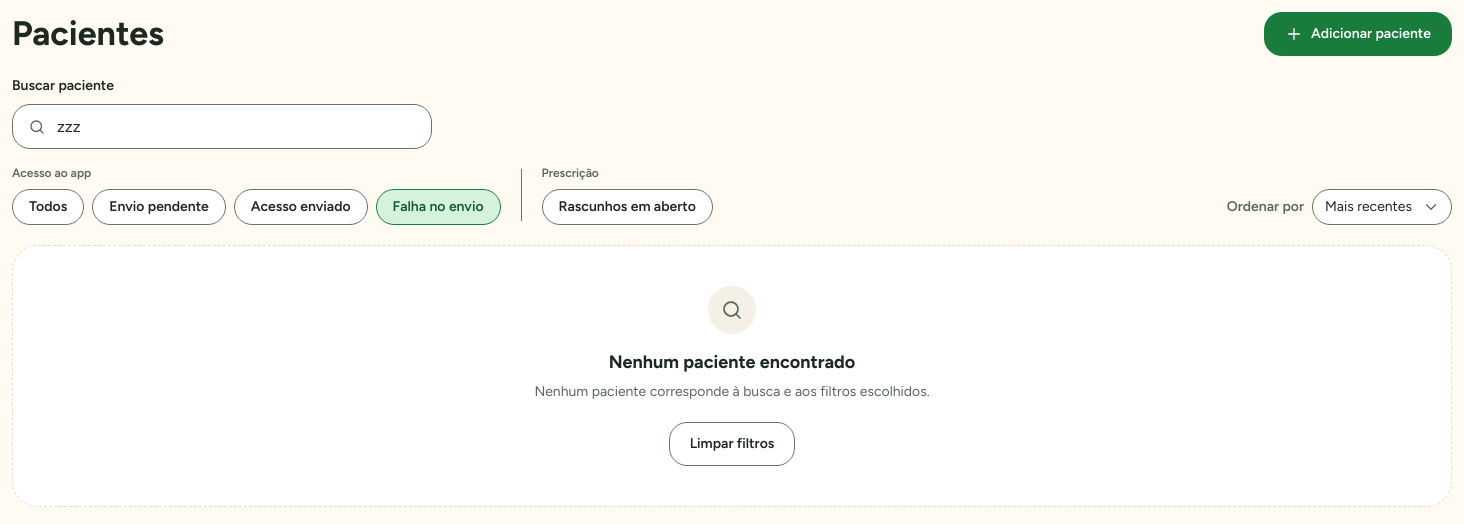
Test: Pacientes › mostra o vazio com filtro e limpa busca e filtros
The width and height of the screenshot is (1464, 524).
Expected: the text "Nenhum paciente encontrado" is shown, top-left (609, 350), bottom-right (855, 374)
Step 1. Click the button "Limpar filtros" → (732, 444), box top-left (669, 422), bottom-right (795, 466)
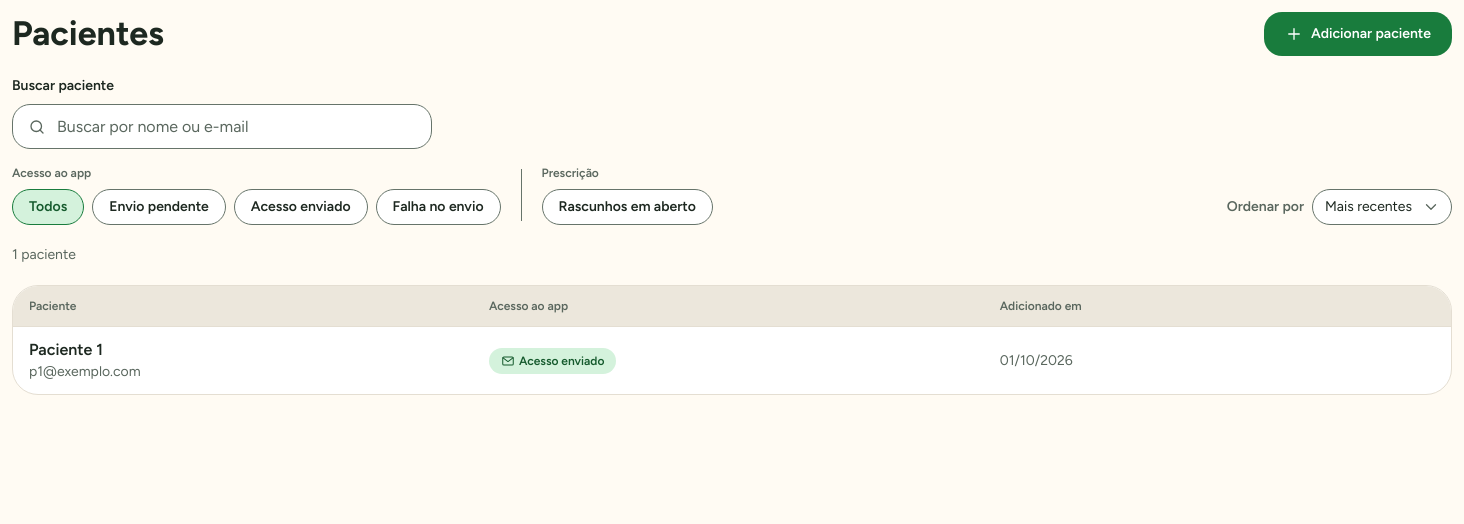
Now the table is shown, box top-left (13, 286), bottom-right (1451, 394)
Now the search field labelled "Buscar paciente" is empty, box top-left (12, 104), bottom-right (432, 149)
